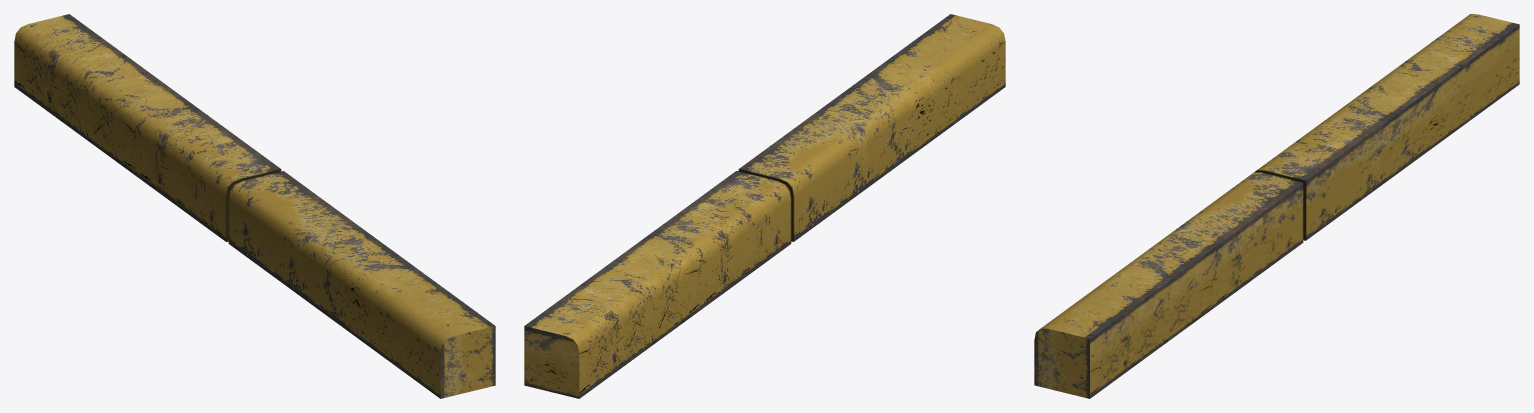
The model's file is Kit_Walkway.fbx.
3 views of the same model, side by side, from view 1: azimuth 30°, elevation 25°; view 2: azimuth 150°, elevation 25°; view 3: azimuth 330°, elevation 25° (orthographic).
Parts seen in each view (by area): view 1: Kit_Walkway; view 2: Kit_Walkway; view 3: Kit_Walkway.
Boxes of the visible parts, x1,y1,x2,y2 form: Kit_Walkway: [14, 14, 495, 398]; Kit_Walkway: [524, 14, 1005, 398]; Kit_Walkway: [1034, 14, 1519, 398].
Bounding box in the file's own units: 11.74 × 12.14 × 157.
